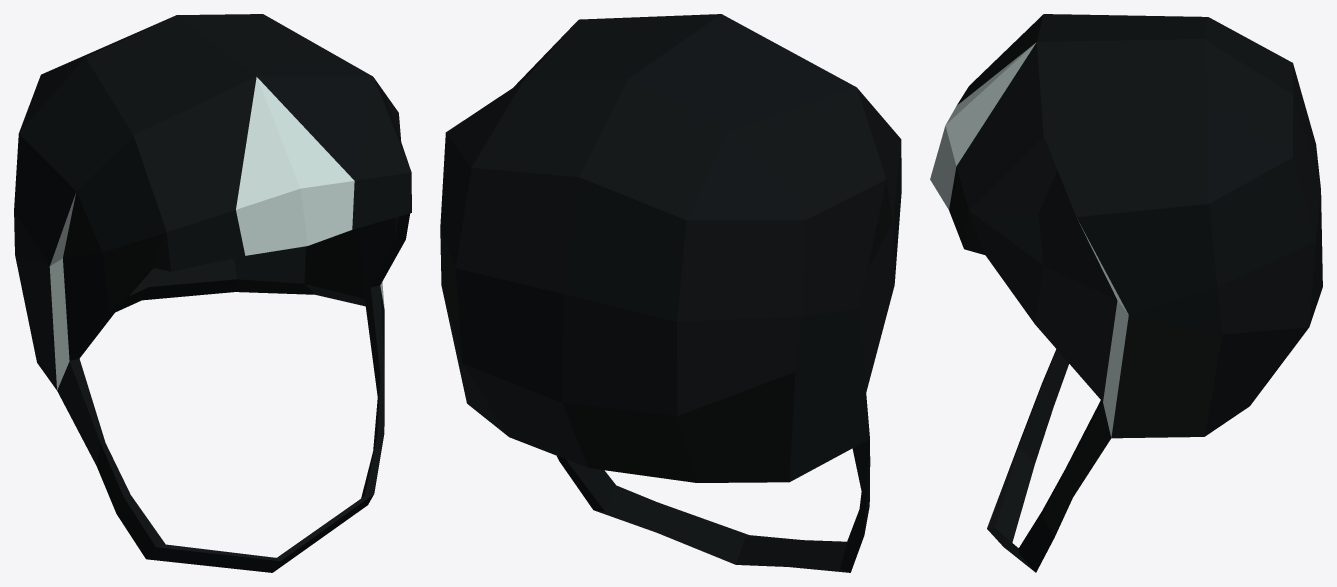
The model's file is Ski_Jumper_2_Helmet.fbx.
3 views of the same model, side by side, from view 1: azimuth 30°, elevation 25°; view 2: azimuth 150°, elevation 25°; view 3: azimuth 270°, elevation 25° (orthographic). The views are drawn at different scales.
Visible parts, largest first — view 1: Ski_Jumper_2_Helmet; view 2: Ski_Jumper_2_Helmet; view 3: Ski_Jumper_2_Helmet.
Part boxes in pixels (x1,y1,x2,y2): Ski_Jumper_2_Helmet: (14,14,411,572); Ski_Jumper_2_Helmet: (440,14,901,572); Ski_Jumper_2_Helmet: (930,14,1322,572).
Bounding box in the file's own units: 22.4 × 31.86 × 22.33.
